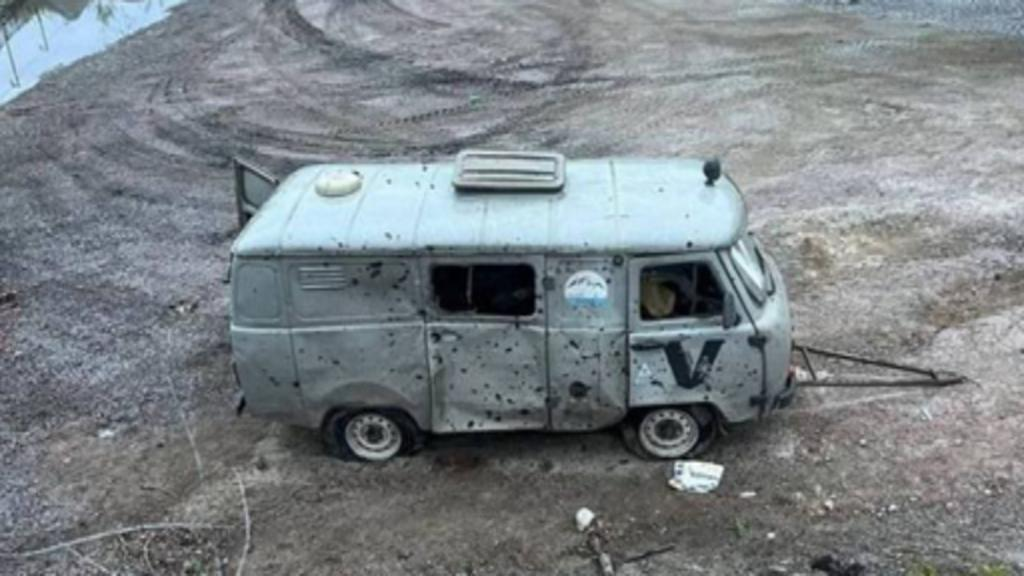CAR: (218, 136, 790, 468)
